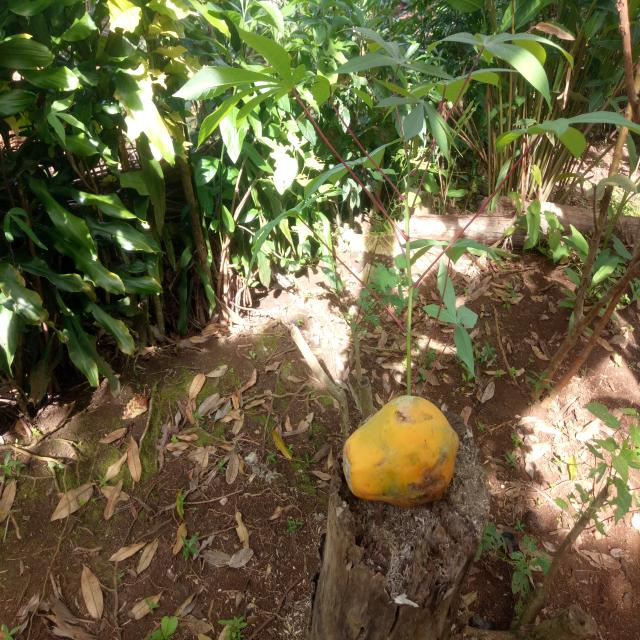Pepaya rippen: (336, 378, 456, 523)
